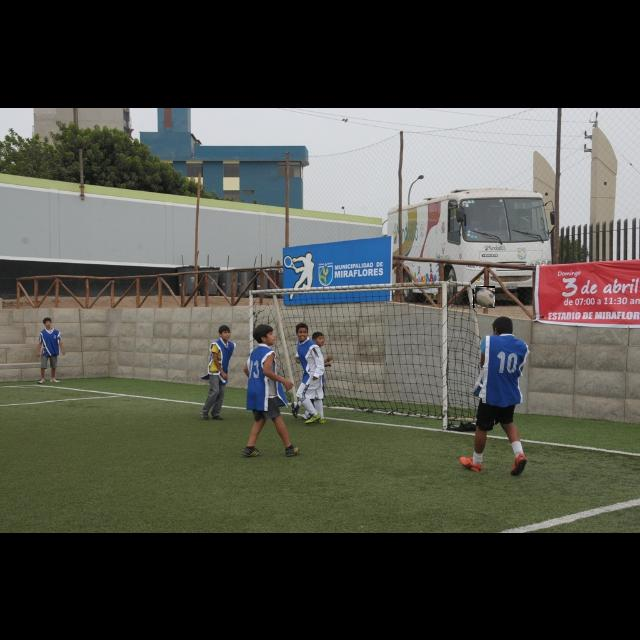Football: (473, 286, 495, 308)
